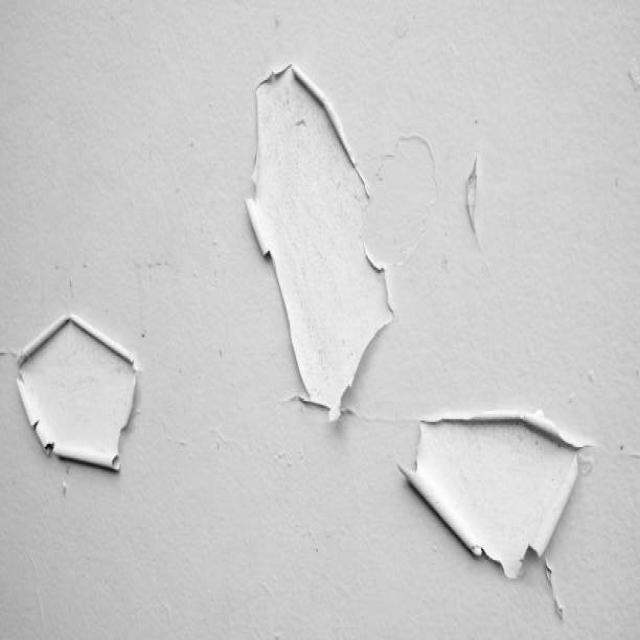peeling paint: (231, 52, 615, 640), (8, 300, 165, 498)
